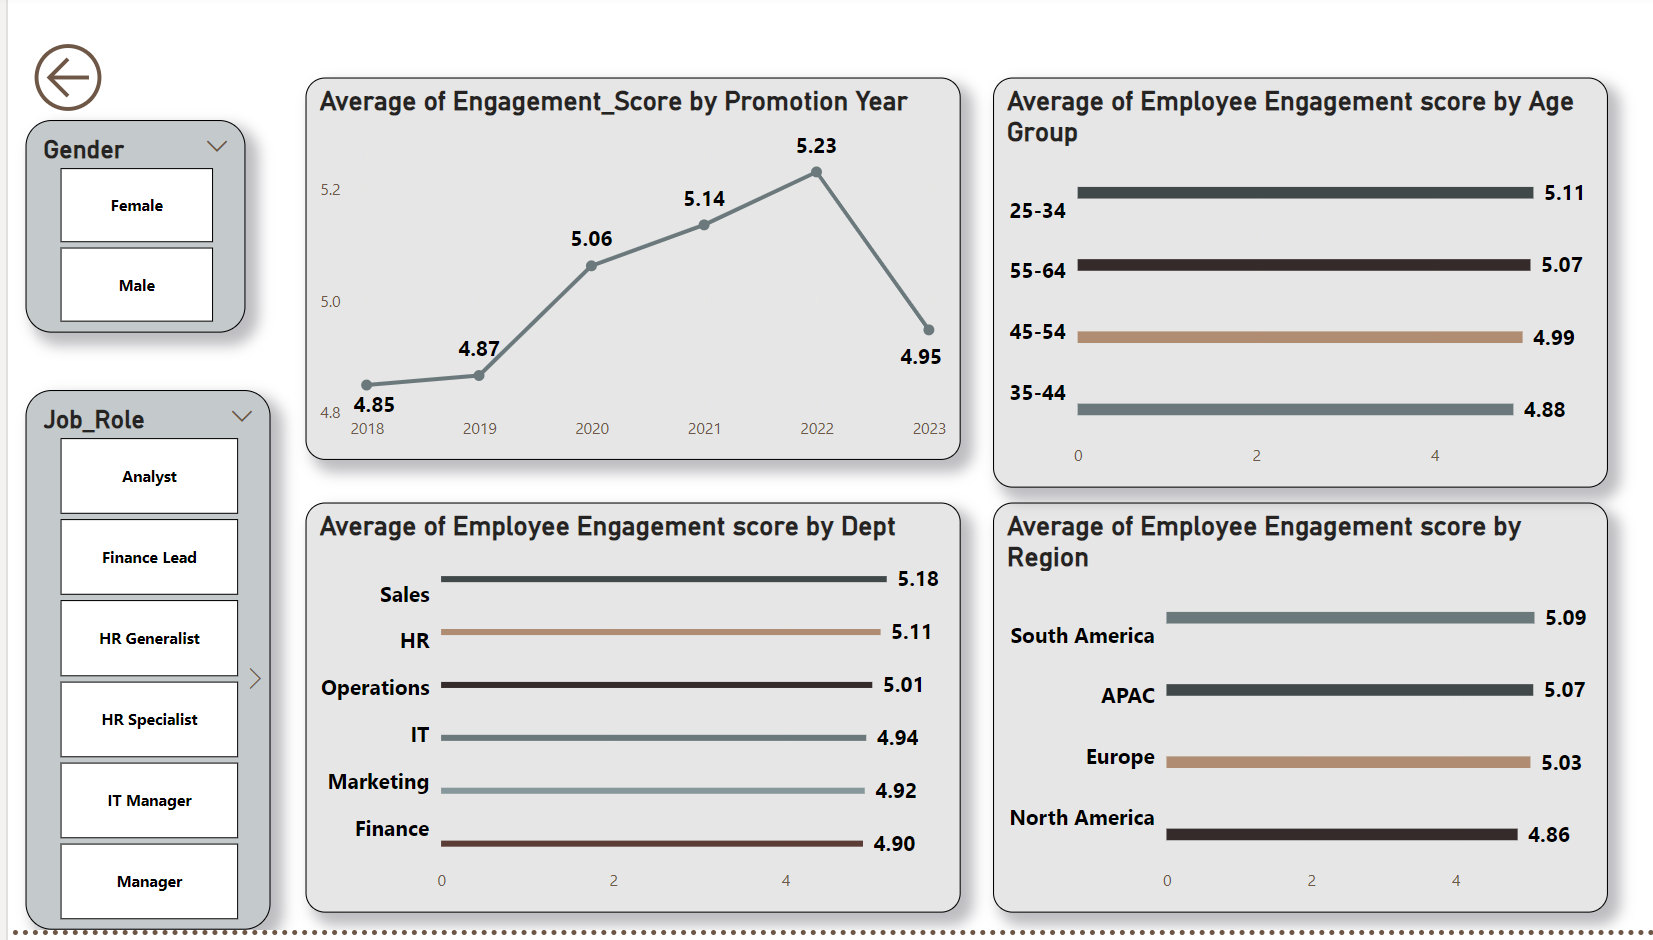

Layout of this report page (visuals, bound fields, positions):
{"tool":"powerbi","page":{"name":"EE analysis","canvas":[1280,720],"ordinal":1},"visuals":[{"type":"lineChart","title":"Average of Engagement_Score by Promotion Year","fields":{"Y":["Avg(SP data.Engagement_Score)"],"Category":["SP data.Promotion_Date.Variation.Date Hierarchy.Year"]},"box":[227.8,67,501.4,292.8],"z":0},{"type":"clusteredBarChart","title":"Average of Employee Engagement score by Region","fields":{"Category":["SP data.Region"],"Y":["Avg(SP data.Engagement_Score)"],"Series":["SP data.Region"]},"box":[754.1,392.3,470.8,313.9],"z":1000},{"type":"clusteredBarChart","title":"Average of Employee Engagement score by Dept","fields":{"Y":["Avg(SP data.Engagement_Score)"],"Category":["SP data.Department"],"Series":["SP data.Department"]},"box":[227.8,392.3,501.4,313.9],"z":2000},{"type":"clusteredBarChart","title":"Average of Employee Engagement score by Age Group","fields":{"Y":["Avg(SP data.Engagement_Score)"],"Category":["SP data.Age_Group"],"Series":["SP data.Age_Group"]},"box":[754.1,67,470.8,313.9],"z":3000},{"type":"slicer","fields":{"Values":["SP data.Gender"]},"box":[13.4,99.5,168.4,162.7],"z":4000},{"type":"slicer","fields":{"Values":["SP data.Job_Role"]},"box":[13.4,306.2,187.6,413.4],"z":5000},{"type":"actionButton","box":[13.4,34.4,97.6,65.1],"z":6000}]}

Visuals, with their boxes in screenshot pixels (x1, y1, x2, y2), scaled from the page's 1280x720 canvas onto the 1653x940 screenshot:
"Average of Engagement_Score by Promotion Year" lineChart: box(294, 87, 942, 470)
"Average of Employee Engagement score by Region" clusteredBarChart: box(974, 512, 1582, 922)
"Average of Employee Engagement score by Dept" clusteredBarChart: box(294, 512, 942, 922)
"Average of Employee Engagement score by Age Group" clusteredBarChart: box(974, 87, 1582, 497)
slicer - SP data.Gender: box(17, 130, 235, 342)
slicer - SP data.Job_Role: box(17, 400, 260, 939)
actionButton: box(17, 45, 143, 130)
